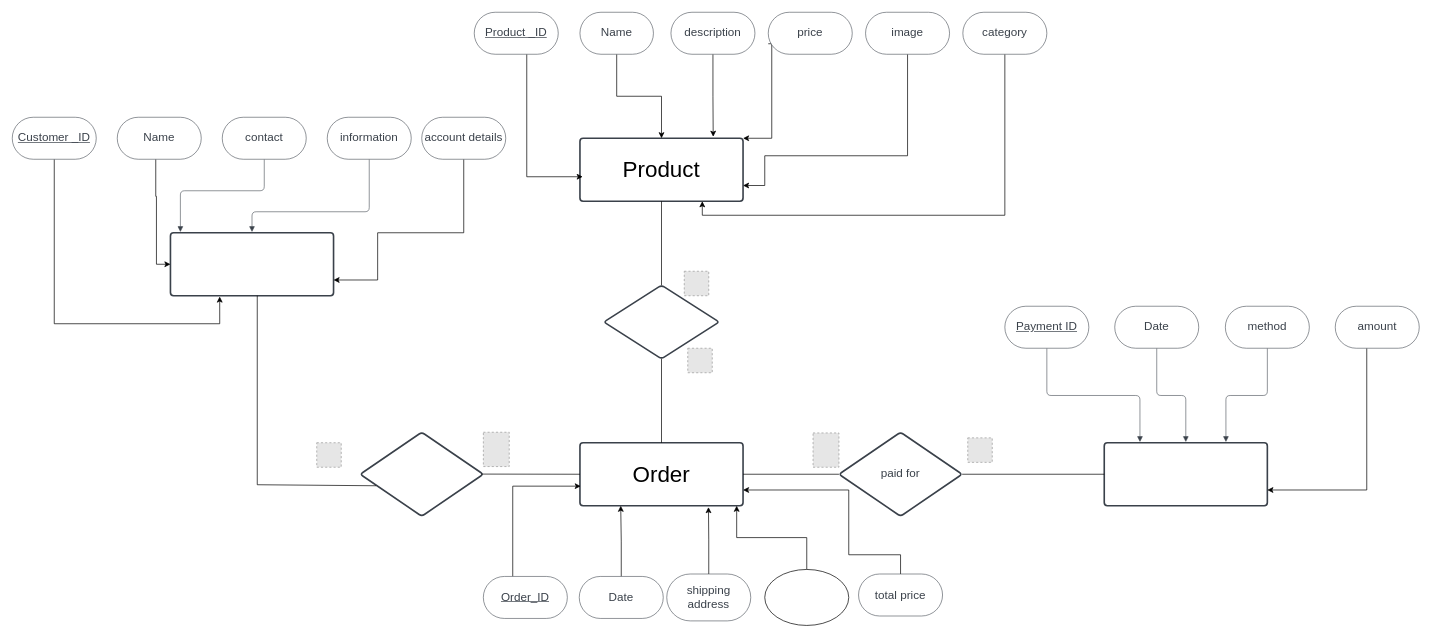
This 1432x639 diagram has some shape labels left out. Grey dashed boxes stand in for pictures. The shapes that lost their labels are listed below. From the top down, each one's centre as x and y in pixels, then its label:
At (251,264): "Customer".
At (661,321): "purchased in".
At (421,474): "placed by".
At (1185,474): "Payment".
At (806,597): "billing addresses".
